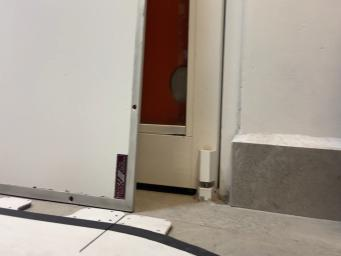street: (0, 208, 216, 256), (0, 208, 216, 256), (0, 208, 216, 256), (0, 208, 216, 256), (0, 208, 216, 256), (0, 208, 216, 256)
